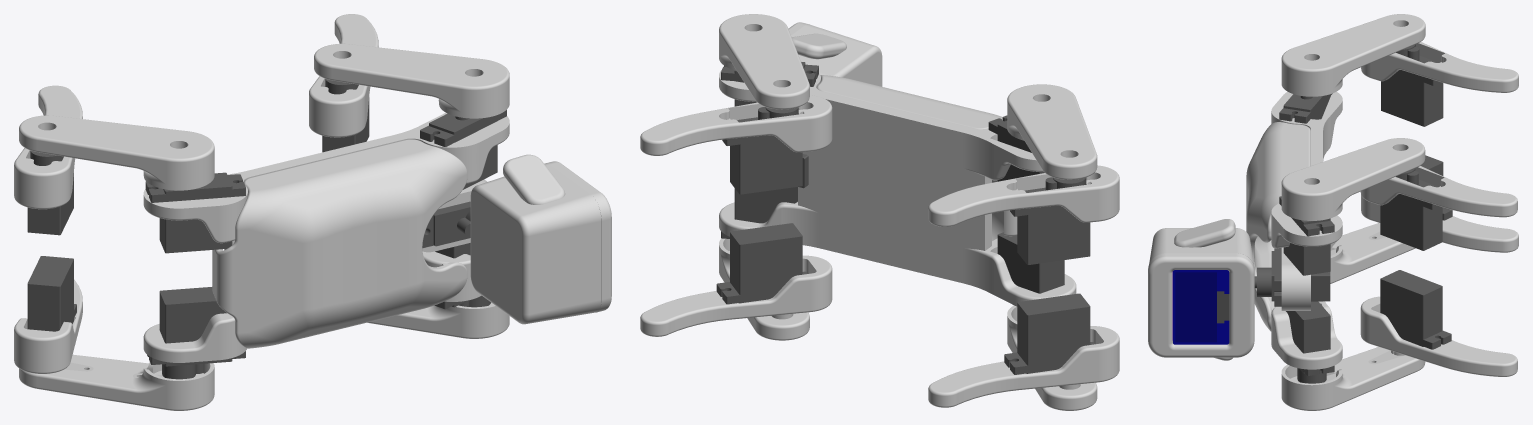
File: CHOCO.gltf
3 views of the same model, side by side, from view 1: azimuth 30°, elevation 25°; view 2: azimuth 150°, elevation 25°; view 3: azimuth 270°, elevation 25° (orthographic). The views are drawn at different scales.
Visible parts, largest first — view 1: Part 2 (×4), Leg1 (×4), Servo PRO MG90S (×8), Part 1 (×2), Part 2-Mirrored; view 2: Part 1, Servo PRO MG90S (×8), Part 2 (×4), Leg1 (×4), Part 2-Mirrored (×2); view 3: Leg1 (×4), Servo PRO MG90S (×8), Part 2 (×4), Part 1 (×2), Part 2-Mirrored (×2), SH1106.
Boxes of the visible parts, x1=… form: Part 2 (×4): x1=14, y1=14, x2=601, y2=348; Leg1 (×4): x1=19, y1=43, x2=509, y2=410; Servo PRO MG90S (×8): x1=27, y1=79, x2=506, y2=379; Part 1 (×2): x1=143, y1=112, x2=611, y2=362; Part 2-Mirrored: x1=14, y1=279, x2=82, y2=373; Part 1: x1=719, y1=70, x2=1076, y2=306; Servo PRO MG90S (×8): x1=716, y1=62, x2=1094, y2=374; Part 2 (×4): x1=640, y1=24, x2=1119, y2=240; Leg1 (×4): x1=719, y1=14, x2=1097, y2=410; Part 2-Mirrored (×2): x1=640, y1=255, x2=1119, y2=407; Leg1 (×4): x1=1281, y1=14, x2=1425, y2=410; Servo PRO MG90S (×8): x1=1254, y1=44, x2=1452, y2=383; Part 2 (×4): x1=1149, y1=42, x2=1518, y2=360; Part 1 (×2): x1=1148, y1=91, x2=1342, y2=369; Part 2-Mirrored (×2): x1=1360, y1=195, x2=1518, y2=376; SH1106: x1=1172, y1=270, x2=1229, y2=344.
Size of the model in its own units: 0.1864 by 0.098 by 0.1515.
